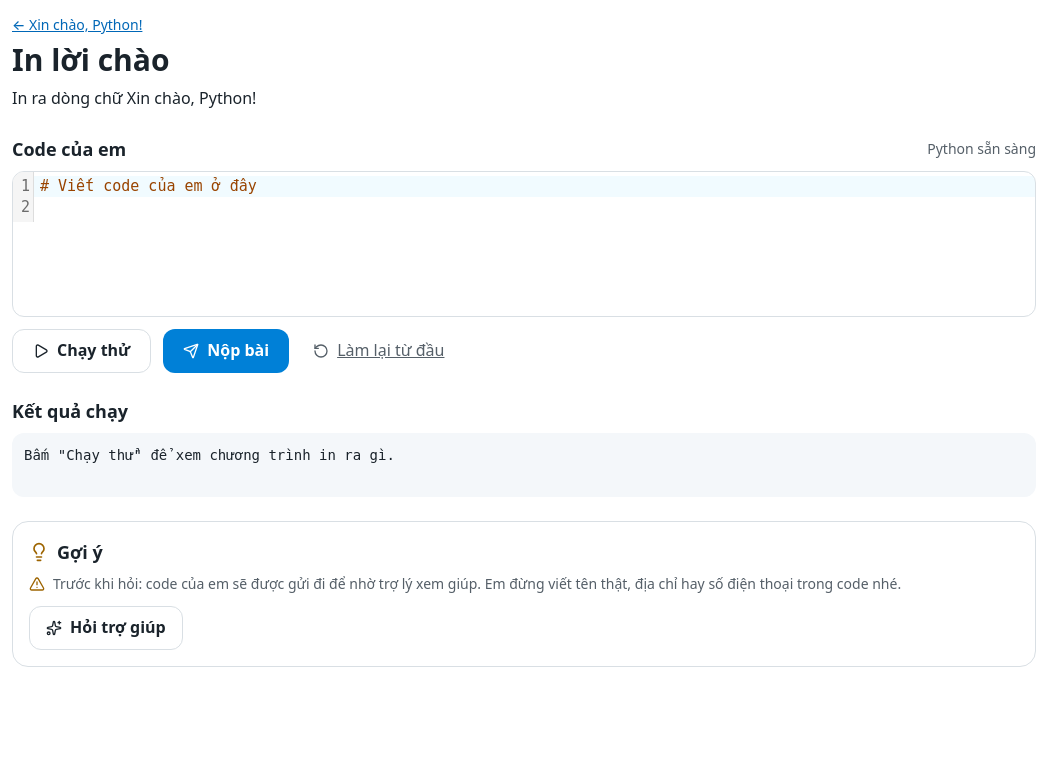
ExercisePage › bấm Chạy thử thì hiện output của chương trình
Click the button "Chạy thử" at (82, 351), box top-left (12, 329), bottom-right (151, 373)
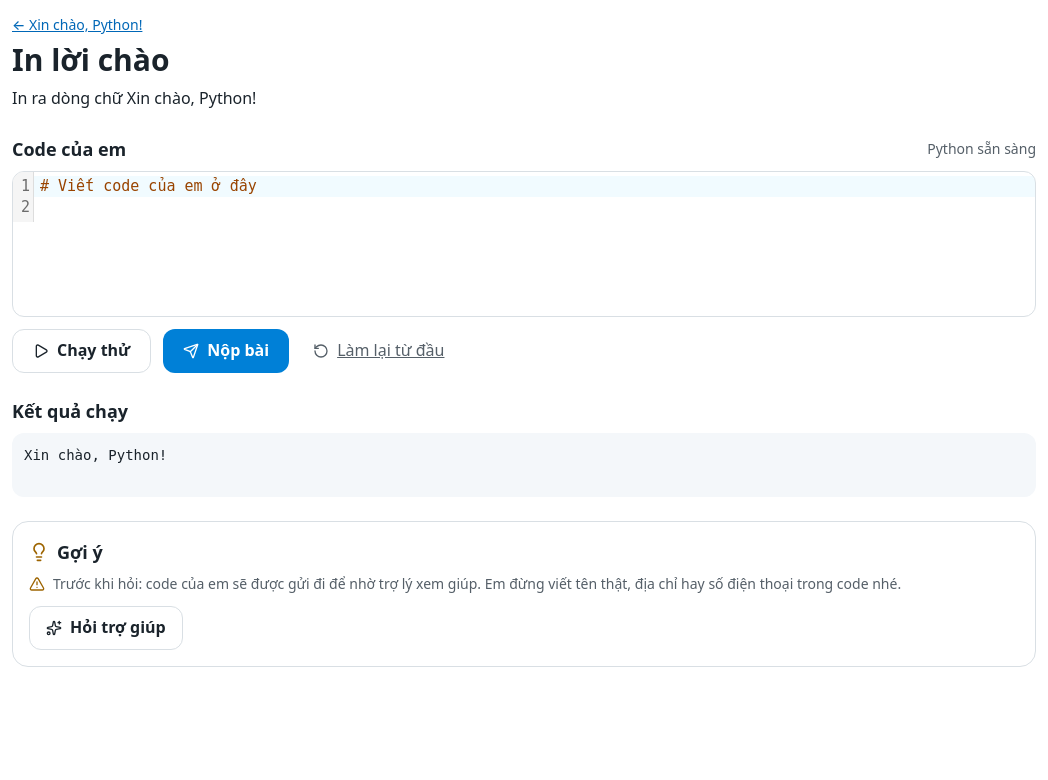
Expected: the text with test id "exercise-output" reads "Xin chào, Python!", top-left (24, 447), bottom-right (167, 463)
